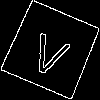V: (26, 24, 75, 80)
